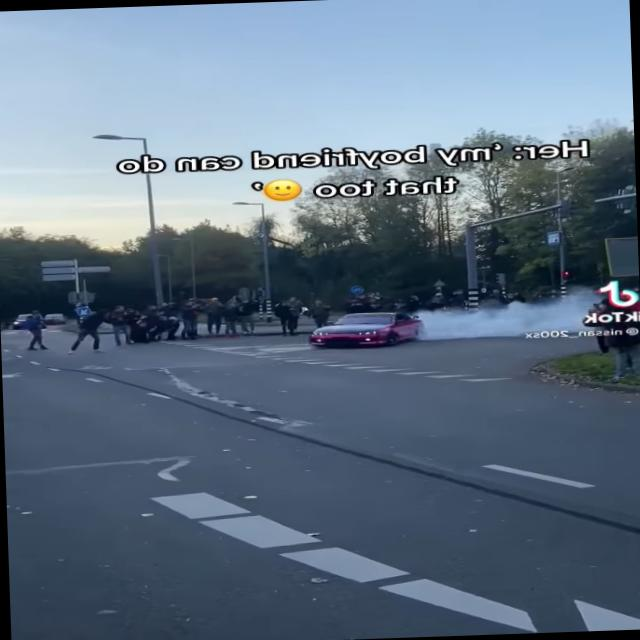car: (304, 308, 422, 352)
